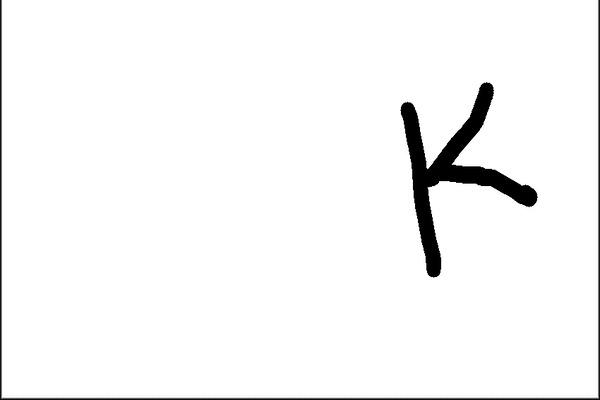K: (394, 76, 542, 285)
